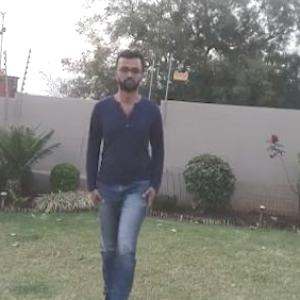follow: (82, 46, 166, 299)
